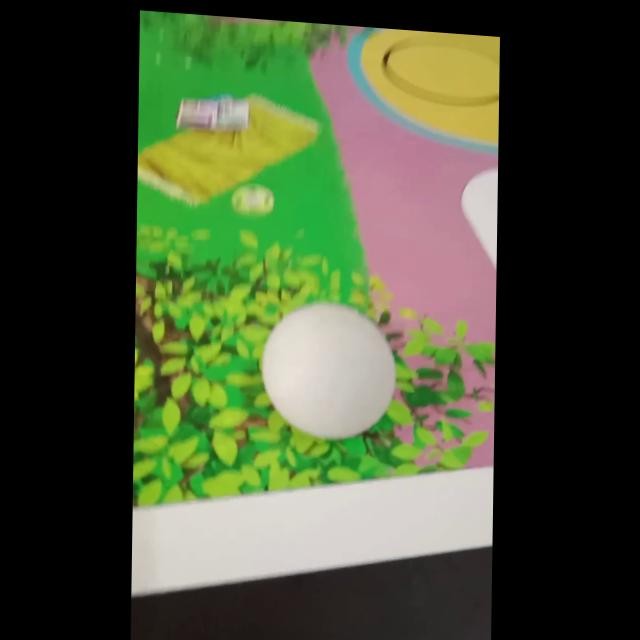white ball: (260, 297, 398, 445)
